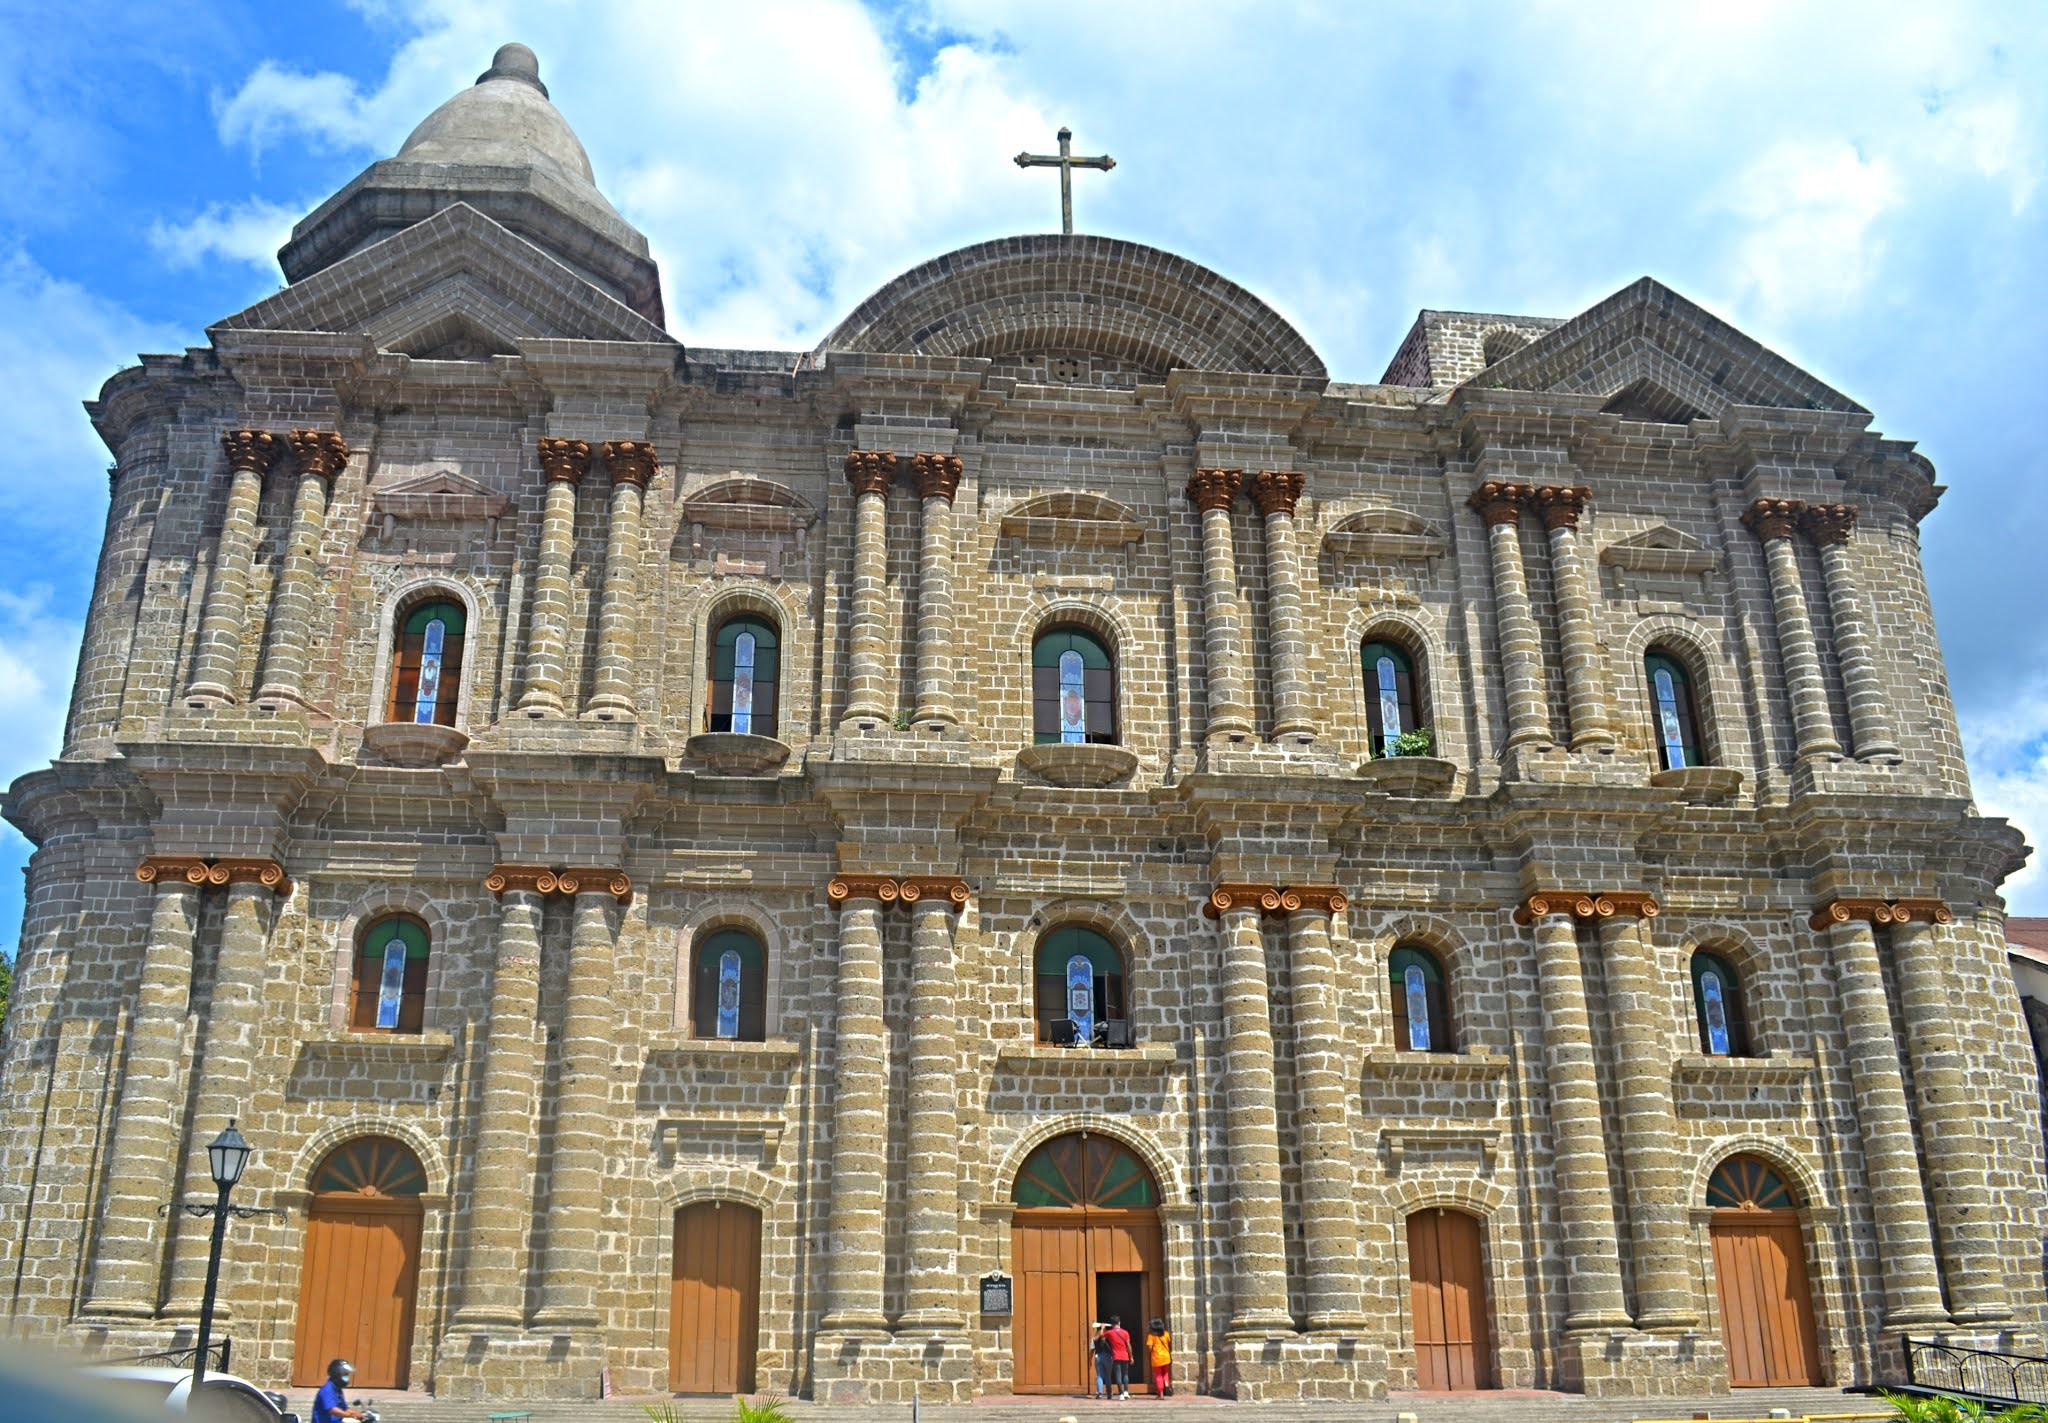taal_basilica_church_taal_batangas: (9, 30, 2048, 1423)
